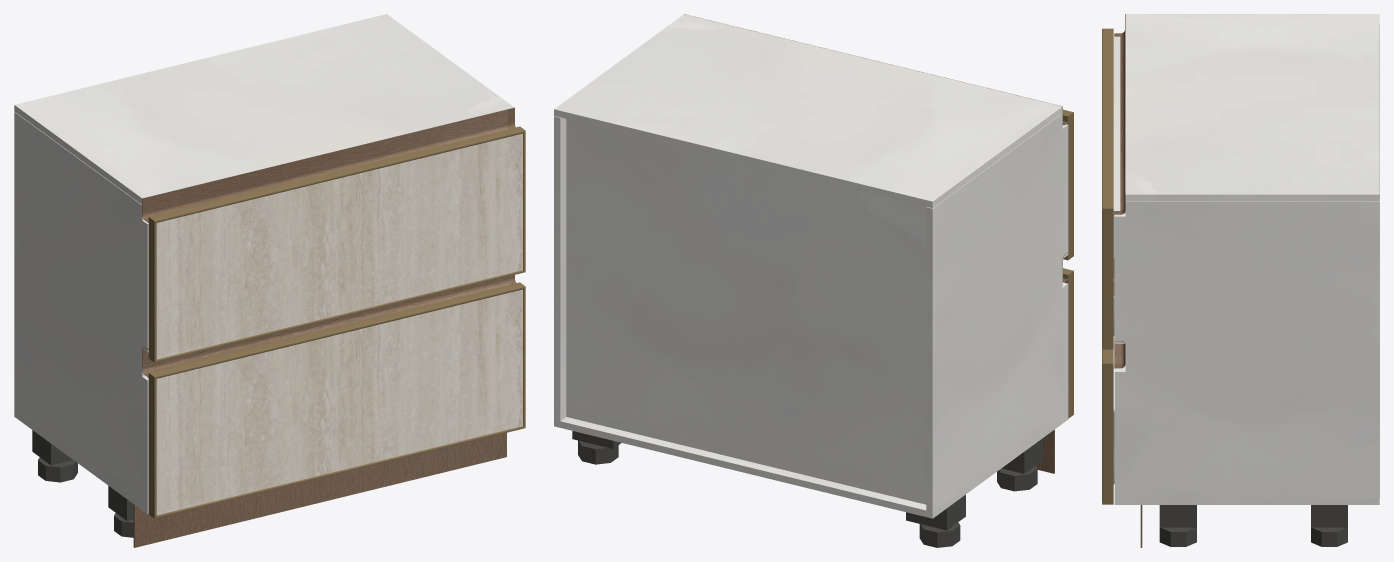
Rendered from BC-DW-CJ-ST-2HB-1BL-XXX-900-720-560-15.glb.
The picture shows the model from 3 angles, left to right: view 1: azimuth 30°, elevation 25°; view 2: azimuth 150°, elevation 25°; view 3: azimuth 270°, elevation 25°; orthographic projection. The views are drawn at different scales.
Visible parts, largest first — view 1: Object_node_82, Object_node_80, TP_node_1, TP_node, Object_node_84, ExtrSplGeo, ExtrSplGeo_node, Extrusion_node_2, Extrusion, Extrusion_node_1, Extrusion_node_5, Extrusion_node_0 (+4 smaller); view 2: TP_node_9, TP_node_1, TP_node, TP, TP_node_0, Extrusion_node_5, Plate, Extrusion_node_1, Foot, Foot_node_0, Foot_node, Plate_node_0; view 3: TP_node_0, TP_node_1, Extrusion_node_2, TP, Extrusion_node, Extrusion_node_3, TP_node_8, ExtrSplGeo, Plate_node_1, Plate_node, Foot_node_1, Foot_node (+1 smaller).
Boxes of the visible parts, x1,y1,x2,y2 form: Object_node_82: (156, 133, 522, 359); Object_node_80: (156, 289, 522, 515); TP_node_1: (14, 14, 514, 204); TP_node: (14, 111, 148, 507); Object_node_84: (133, 432, 506, 547); ExtrSplGeo: (142, 107, 515, 222); ExtrSplGeo_node: (142, 275, 516, 377); Extrusion_node_2: (149, 126, 525, 222); Extrusion: (149, 282, 525, 378); Extrusion_node_1: (148, 373, 156, 518); Extrusion_node_5: (148, 217, 156, 362); Extrusion_node_0: (155, 426, 524, 518); TP_node_9: (566, 119, 926, 504); TP_node_1: (554, 14, 1062, 208); TP_node: (926, 113, 1068, 511); TP: (554, 413, 1068, 518); TP_node_0: (554, 116, 566, 420); Extrusion_node_5: (1063, 112, 1073, 260); Plate: (906, 494, 965, 530); Extrusion_node_1: (1064, 271, 1073, 418); Foot: (919, 522, 960, 547); Foot_node_0: (997, 466, 1037, 491); Foot_node: (578, 440, 618, 464); Plate_node_0: (1002, 438, 1042, 473); TP_node_0: (1114, 199, 1379, 498); TP_node_1: (1125, 14, 1379, 201); Extrusion_node_2: (1102, 28, 1113, 208); TP: (1114, 368, 1379, 504); Extrusion_node: (1102, 363, 1113, 504); Extrusion_node_3: (1102, 208, 1113, 349); TP_node_8: (1113, 36, 1120, 258); ExtrSplGeo: (1114, 14, 1125, 214); Plate_node_1: (1159, 505, 1196, 527); Plate_node: (1311, 505, 1347, 527); Foot_node_1: (1159, 527, 1196, 546); Foot_node: (1311, 527, 1347, 546).
Size of what is drawn, in the model's own units: 0.9 by 0.82 by 0.5842.
Materials: 8 (3 with a texture image).
